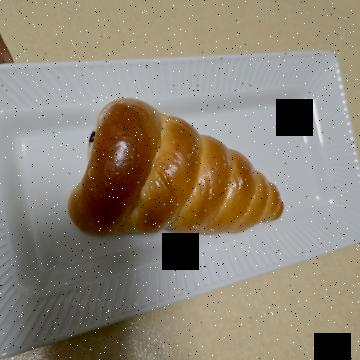cream horn: (89, 73, 264, 317)
